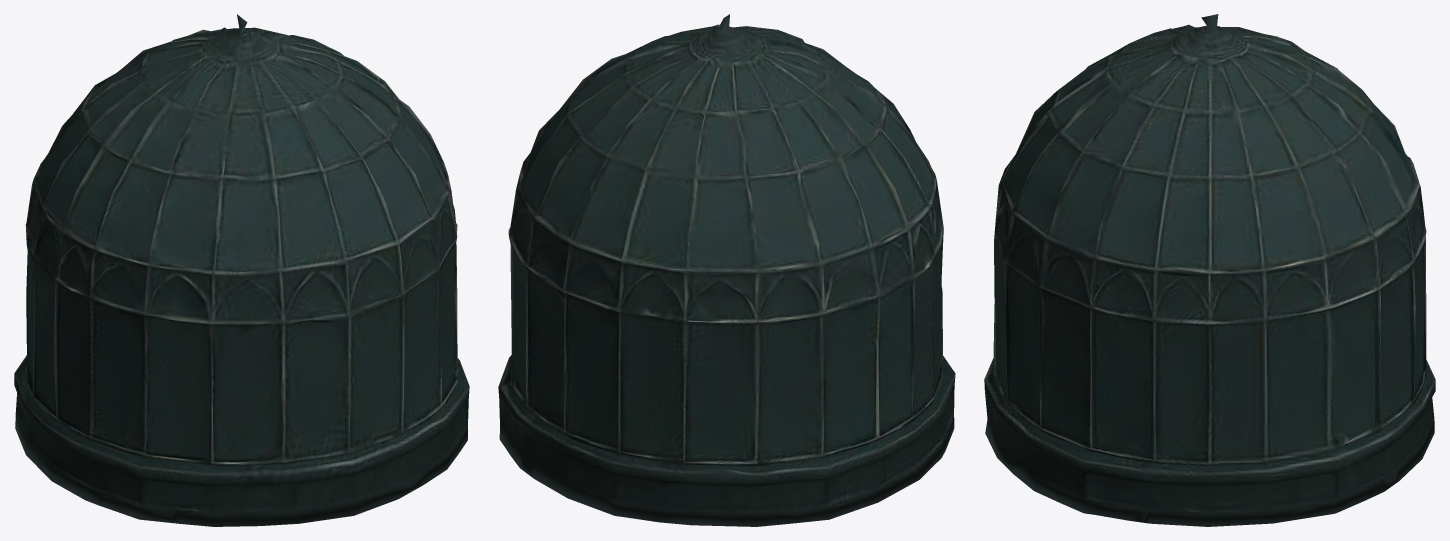
Rendered from 3d-oranzeria.glb.
The picture shows the model from 3 angles, left to right: view 1: azimuth 30°, elevation 25°; view 2: azimuth 150°, elevation 25°; view 3: azimuth 270°, elevation 25°; orthographic projection.
Parts seen in each view (by area): view 1: tripo_node_d6c804ba-e215-41bd-beac-6e2137e12473; view 2: tripo_node_d6c804ba-e215-41bd-beac-6e2137e12473; view 3: tripo_node_d6c804ba-e215-41bd-beac-6e2137e12473.
Part boxes in pixels (x1=…): tripo_node_d6c804ba-e215-41bd-beac-6e2137e12473: x1=14, y1=14, x2=469, y2=526; tripo_node_d6c804ba-e215-41bd-beac-6e2137e12473: x1=498, y1=14, x2=955, y2=526; tripo_node_d6c804ba-e215-41bd-beac-6e2137e12473: x1=984, y1=14, x2=1435, y2=526.
Bounding box in the file's own units: 0.9627 × 1 × 0.9761.
1 material, 1 textured.
